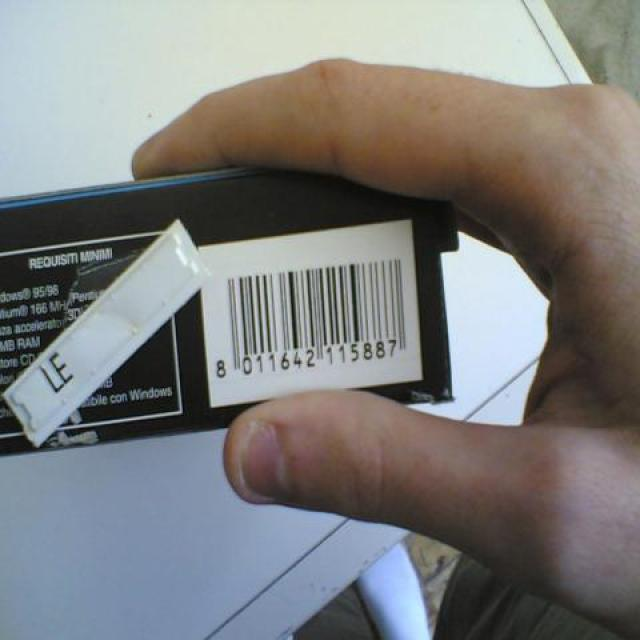Barcode: (197, 215, 422, 408)
